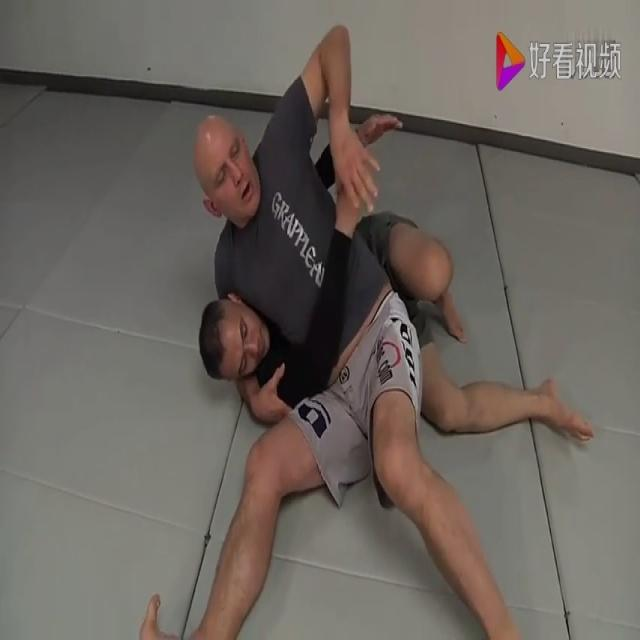fight: (130, 18, 593, 640)
